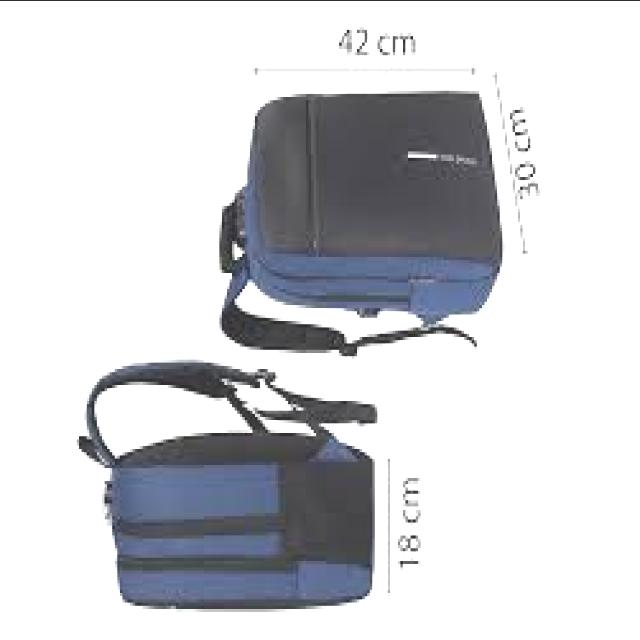backpack: (218, 91, 504, 360), (75, 363, 376, 616)
